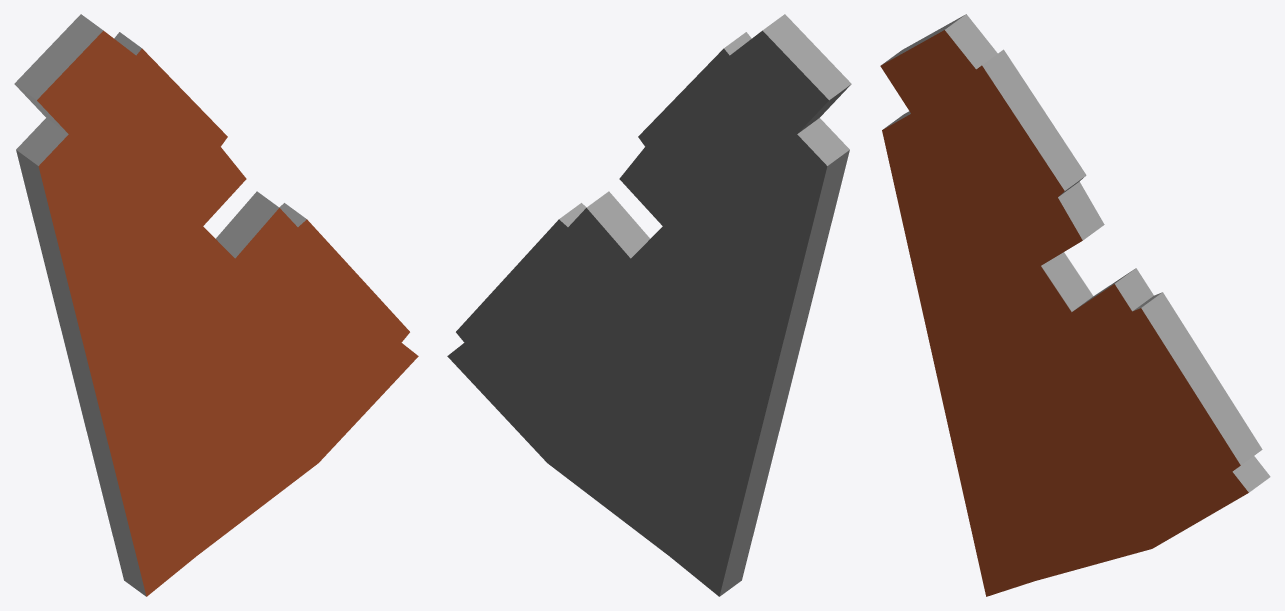
File: construction_0113_assumed_A_Grande_construcao_h6m.obj
The picture shows the model from 3 angles, left to right: view 1: azimuth 30°, elevation 25°; view 2: azimuth 150°, elevation 25°; view 3: azimuth 330°, elevation 25°; orthographic projection. The views are drawn at different scales.
Parts seen in each view (by area): view 1: construction_0113_assumed_A_Grande_construcao; view 2: construction_0113_assumed_A_Grande_construcao; view 3: construction_0113_assumed_A_Grande_construcao.
Boxes of the visible parts, x1,y1,x2,y2 form: construction_0113_assumed_A_Grande_construcao: [14, 14, 418, 596]; construction_0113_assumed_A_Grande_construcao: [447, 14, 851, 596]; construction_0113_assumed_A_Grande_construcao: [880, 14, 1270, 596].
Size of the model in its own units: 58.7 by 84.71 by 6.
